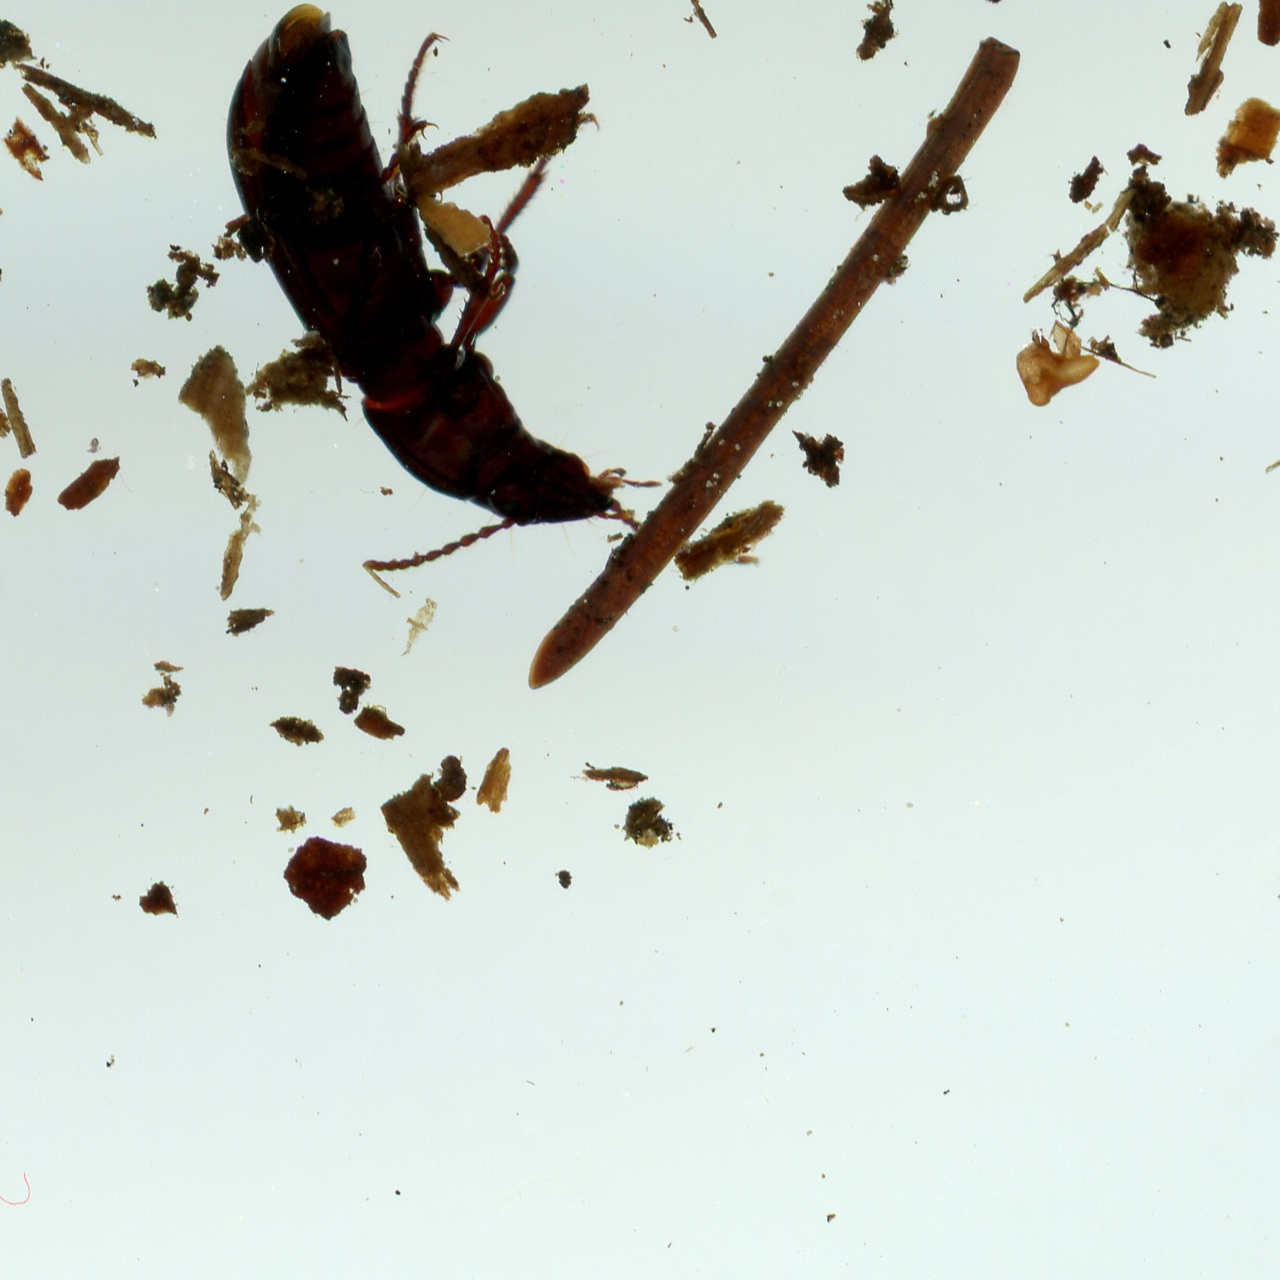arthropod: (218, 0, 671, 580)
